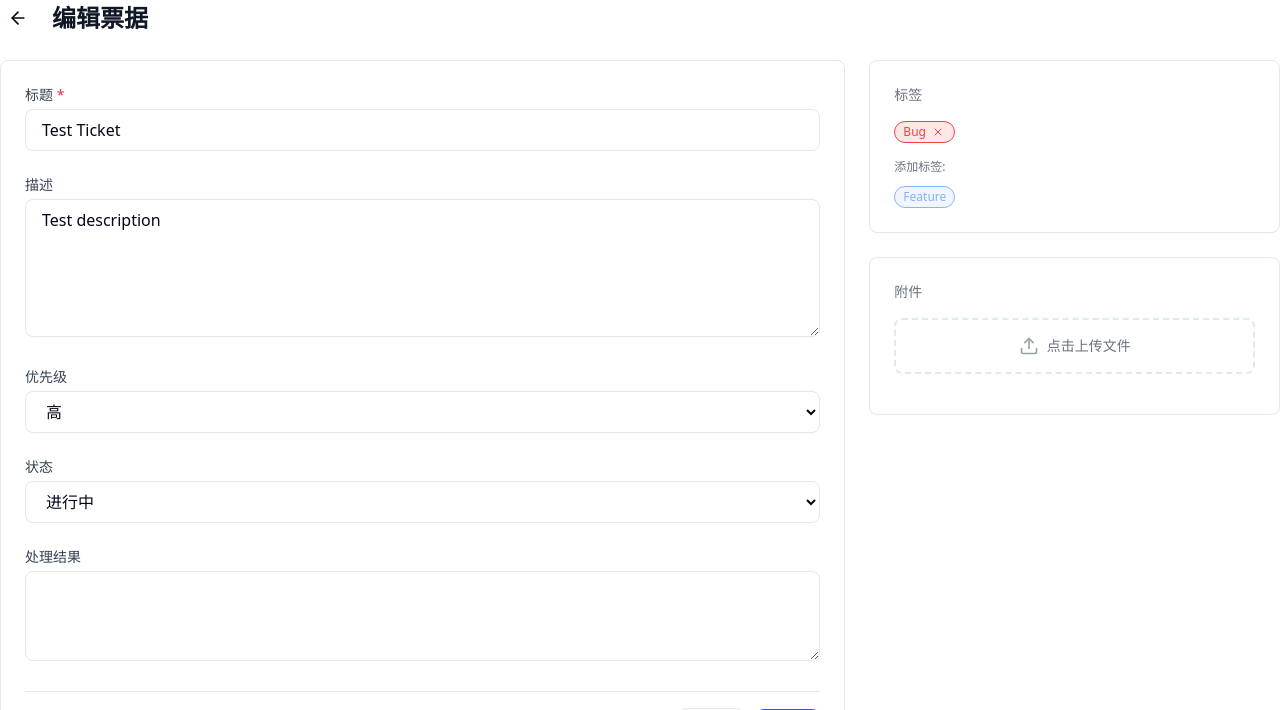
Test case: TicketEditPage › requires resolution when status is completed
This screenshot has width=1280, height=710.
Expected: the field showing "Test Ticket" is shown, x1=25 y1=109 x2=820 y2=151
Step 1. Select "已完成" in the dropdown labelled "状态" → (423, 502), box x1=25 y1=481 x2=820 y2=523
(page scrolled)
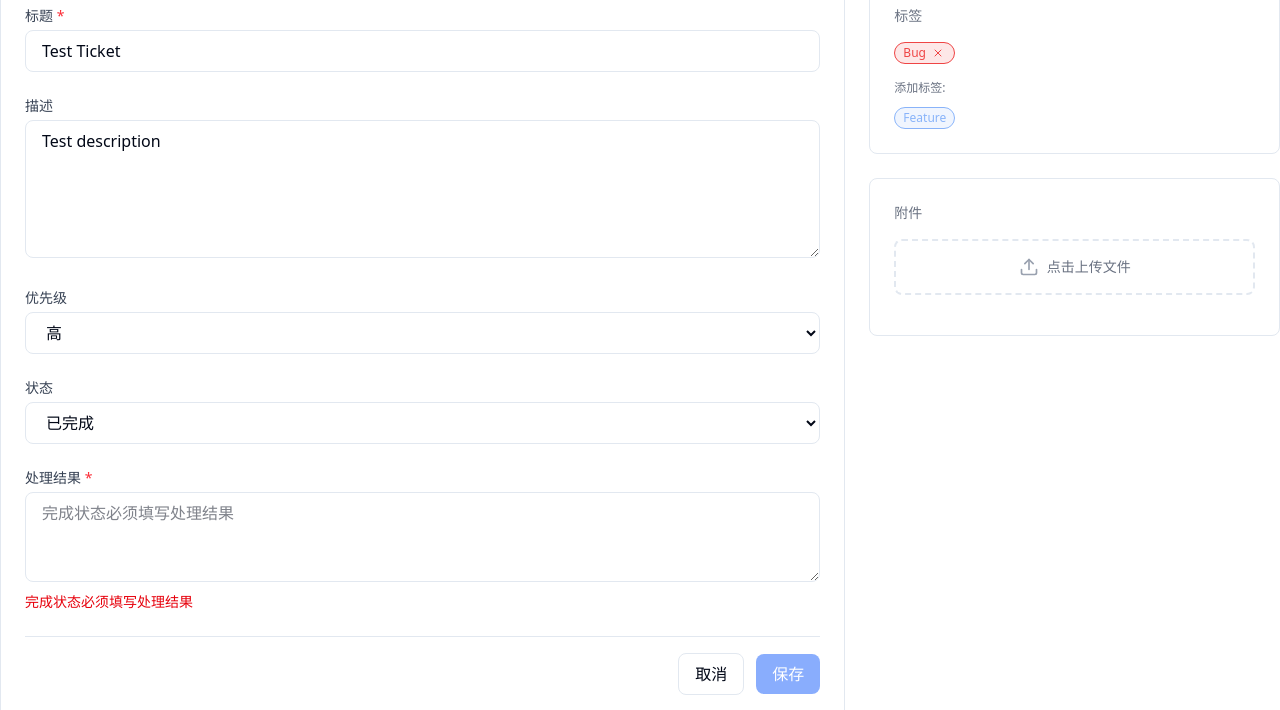
Expected: the text "完成状态必须填写处理结果" is shown, x1=25 y1=592 x2=193 y2=611
Expected: the button "保存" is disabled, x1=756 y1=654 x2=820 y2=694
